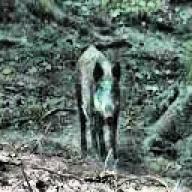boar: (74, 44, 122, 162)
